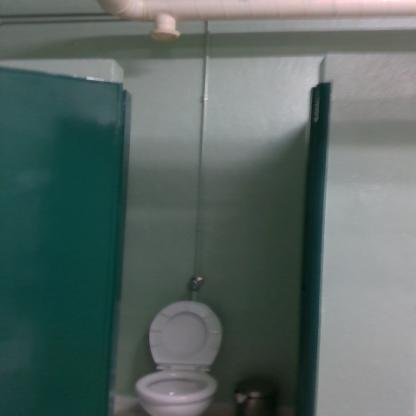open: (0, 56, 343, 415)
